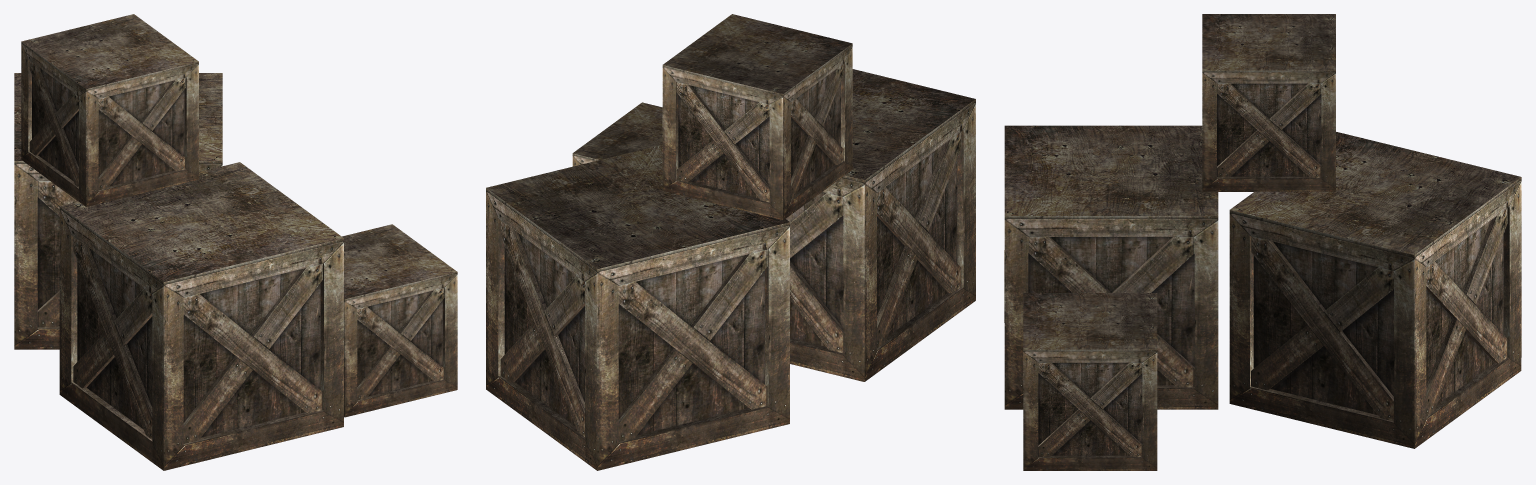
Rendered from wood_boxes.fbx.
3 renders of one model, left to right at view 1: azimuth 30°, elevation 25°; view 2: azimuth 150°, elevation 25°; view 3: azimuth 270°, elevation 25°, orthographic. The views are drawn at different scales.
Visible parts, largest first — view 1: wood_boxes.001; view 2: wood_boxes.001; view 3: wood_boxes.001.
Boxes of the visible parts, <box> form: wood_boxes.001: <box>14,14,457,470</box>; wood_boxes.001: <box>486,14,975,470</box>; wood_boxes.001: <box>1004,14,1521,470</box>.
Bounding box in the file's own units: 2.74 × 2.65 × 3.95.
Materials: 1 (1 with a texture image).
